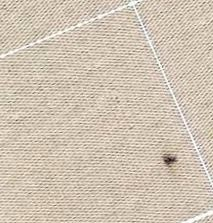stain: (159, 150, 180, 169)
